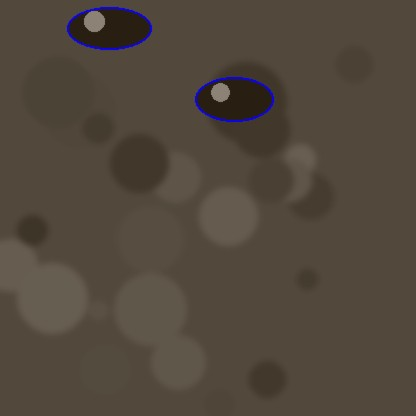gota: (67, 9, 151, 53), (195, 79, 273, 125)
